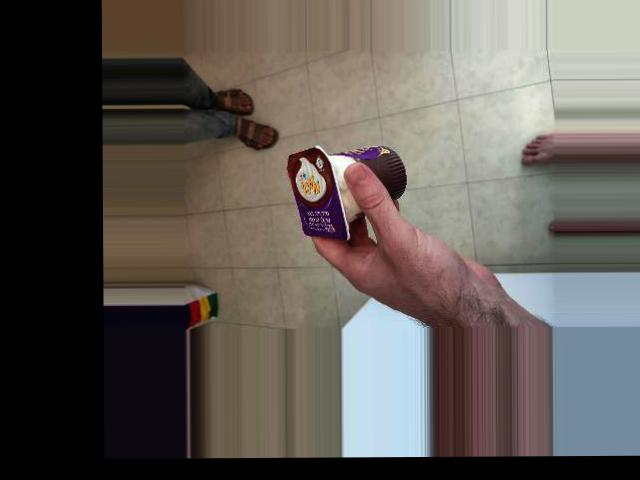milky: (277, 101, 366, 226)
